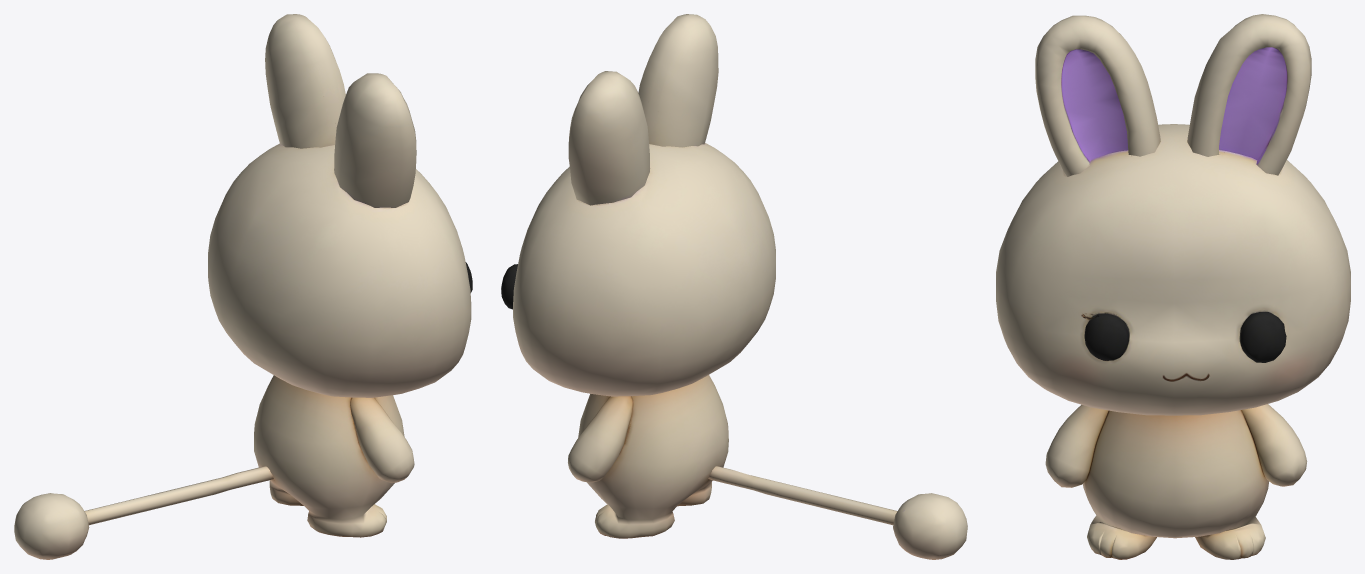
The model's file is rabbit.glb.
3 views of the same model, side by side, from view 1: azimuth 30°, elevation 25°; view 2: azimuth 150°, elevation 25°; view 3: azimuth 270°, elevation 25° (orthographic). The views are drawn at different scales.
Parts seen in each view (by area): view 1: tripo_node_d937d858-a641-4afd-b23a-df98ea603d49; view 2: tripo_node_d937d858-a641-4afd-b23a-df98ea603d49; view 3: tripo_node_d937d858-a641-4afd-b23a-df98ea603d49.
Boxes of the visible parts, x1,y1,x2,y2 form: tripo_node_d937d858-a641-4afd-b23a-df98ea603d49: [14, 14, 472, 559]; tripo_node_d937d858-a641-4afd-b23a-df98ea603d49: [501, 14, 967, 559]; tripo_node_d937d858-a641-4afd-b23a-df98ea603d49: [996, 14, 1350, 559].
Size of the model in its own units: 0.959 by 0.998 by 0.6035.
1 material, 1 textured.
